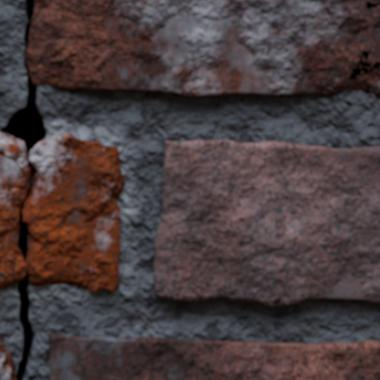brick: (154, 141, 379, 305), (28, 0, 379, 97), (50, 334, 379, 379), (0, 336, 14, 379)
broken_brick: (25, 132, 125, 292), (0, 133, 28, 290)
crack: (0, 0, 47, 379), (348, 50, 379, 80), (365, 0, 379, 9)
